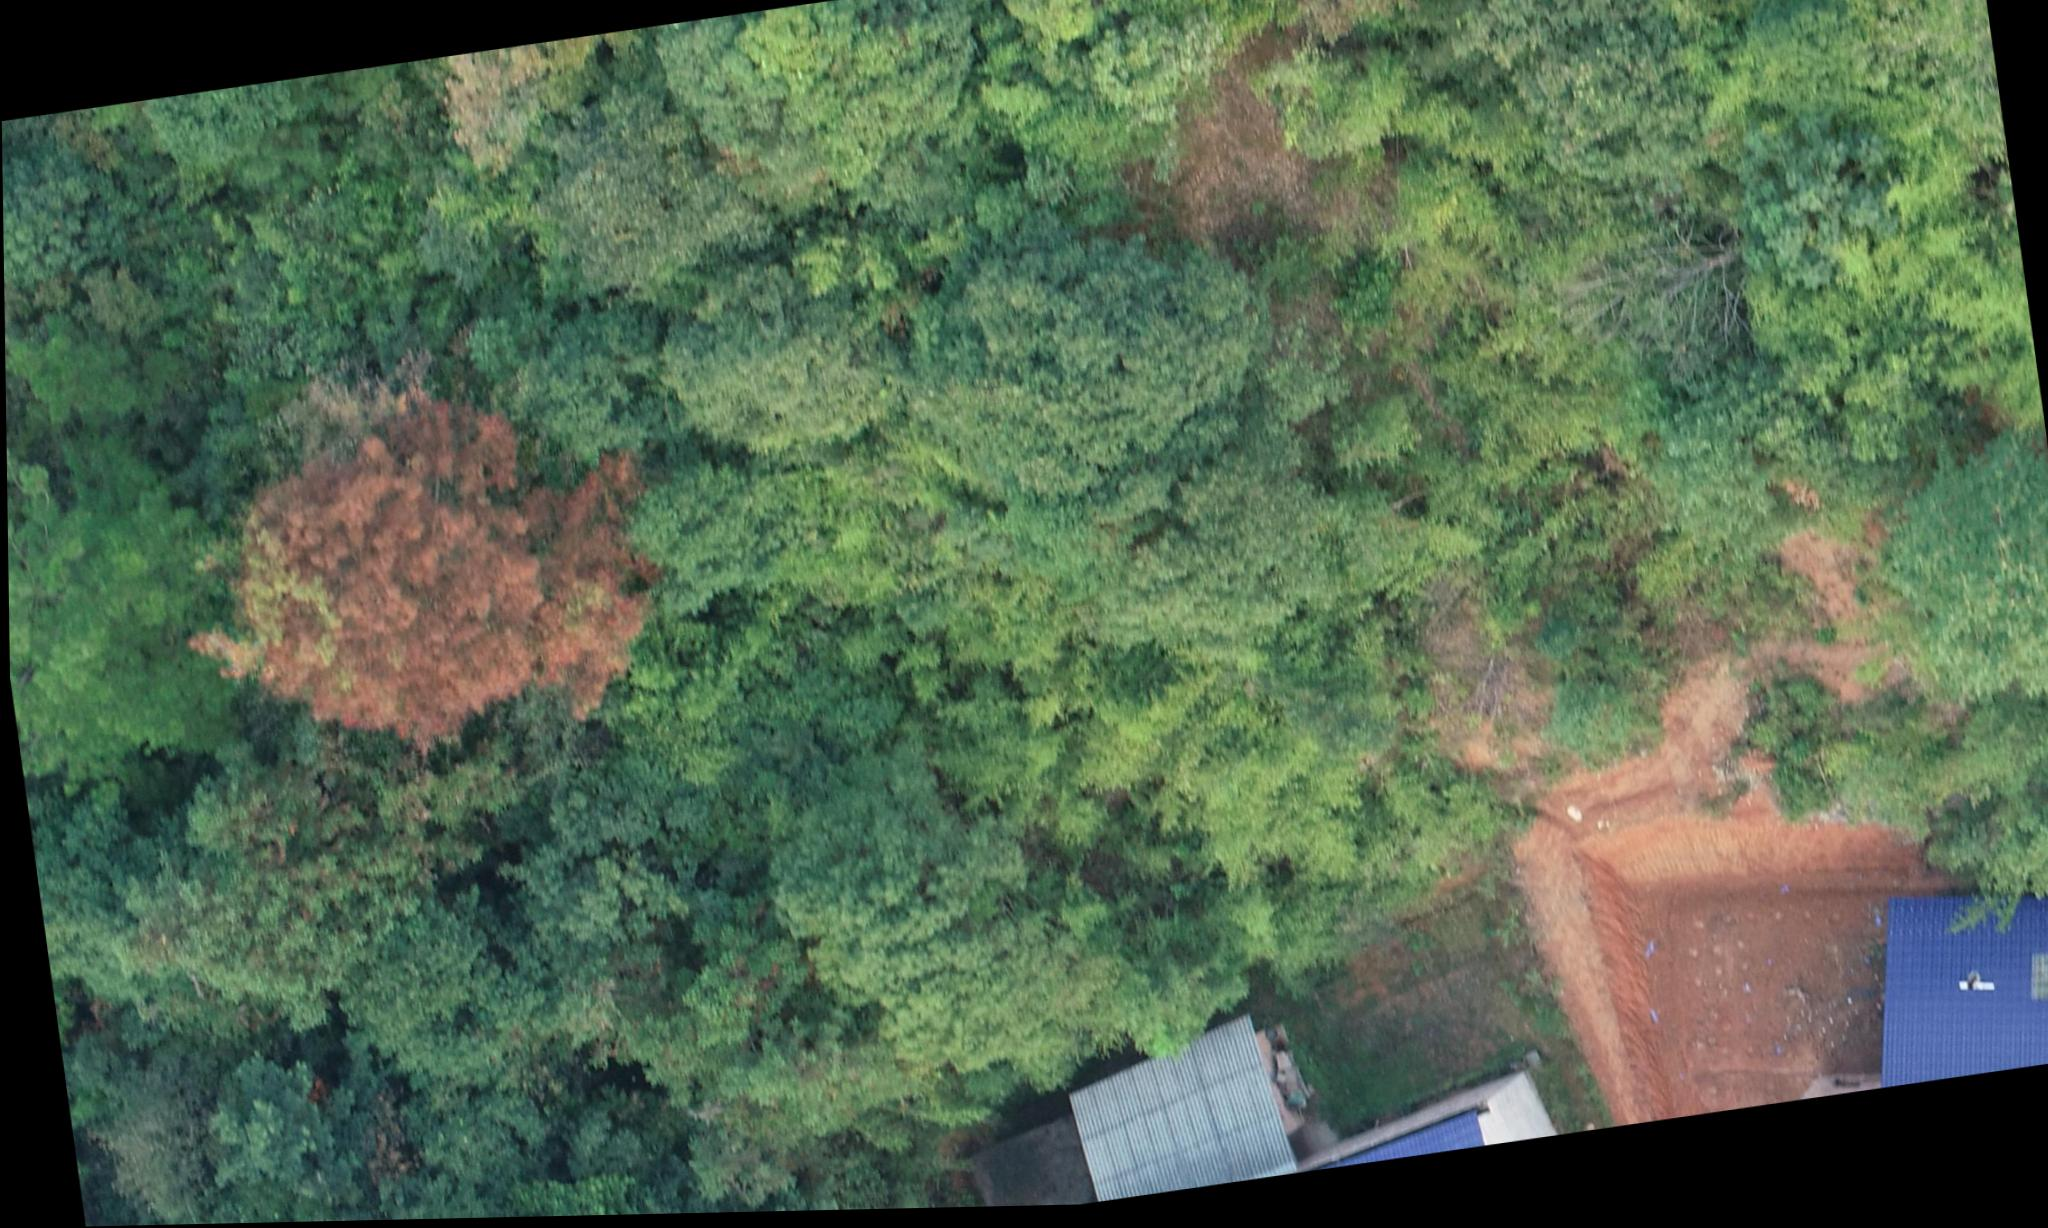heavy: (180, 335, 699, 800)
